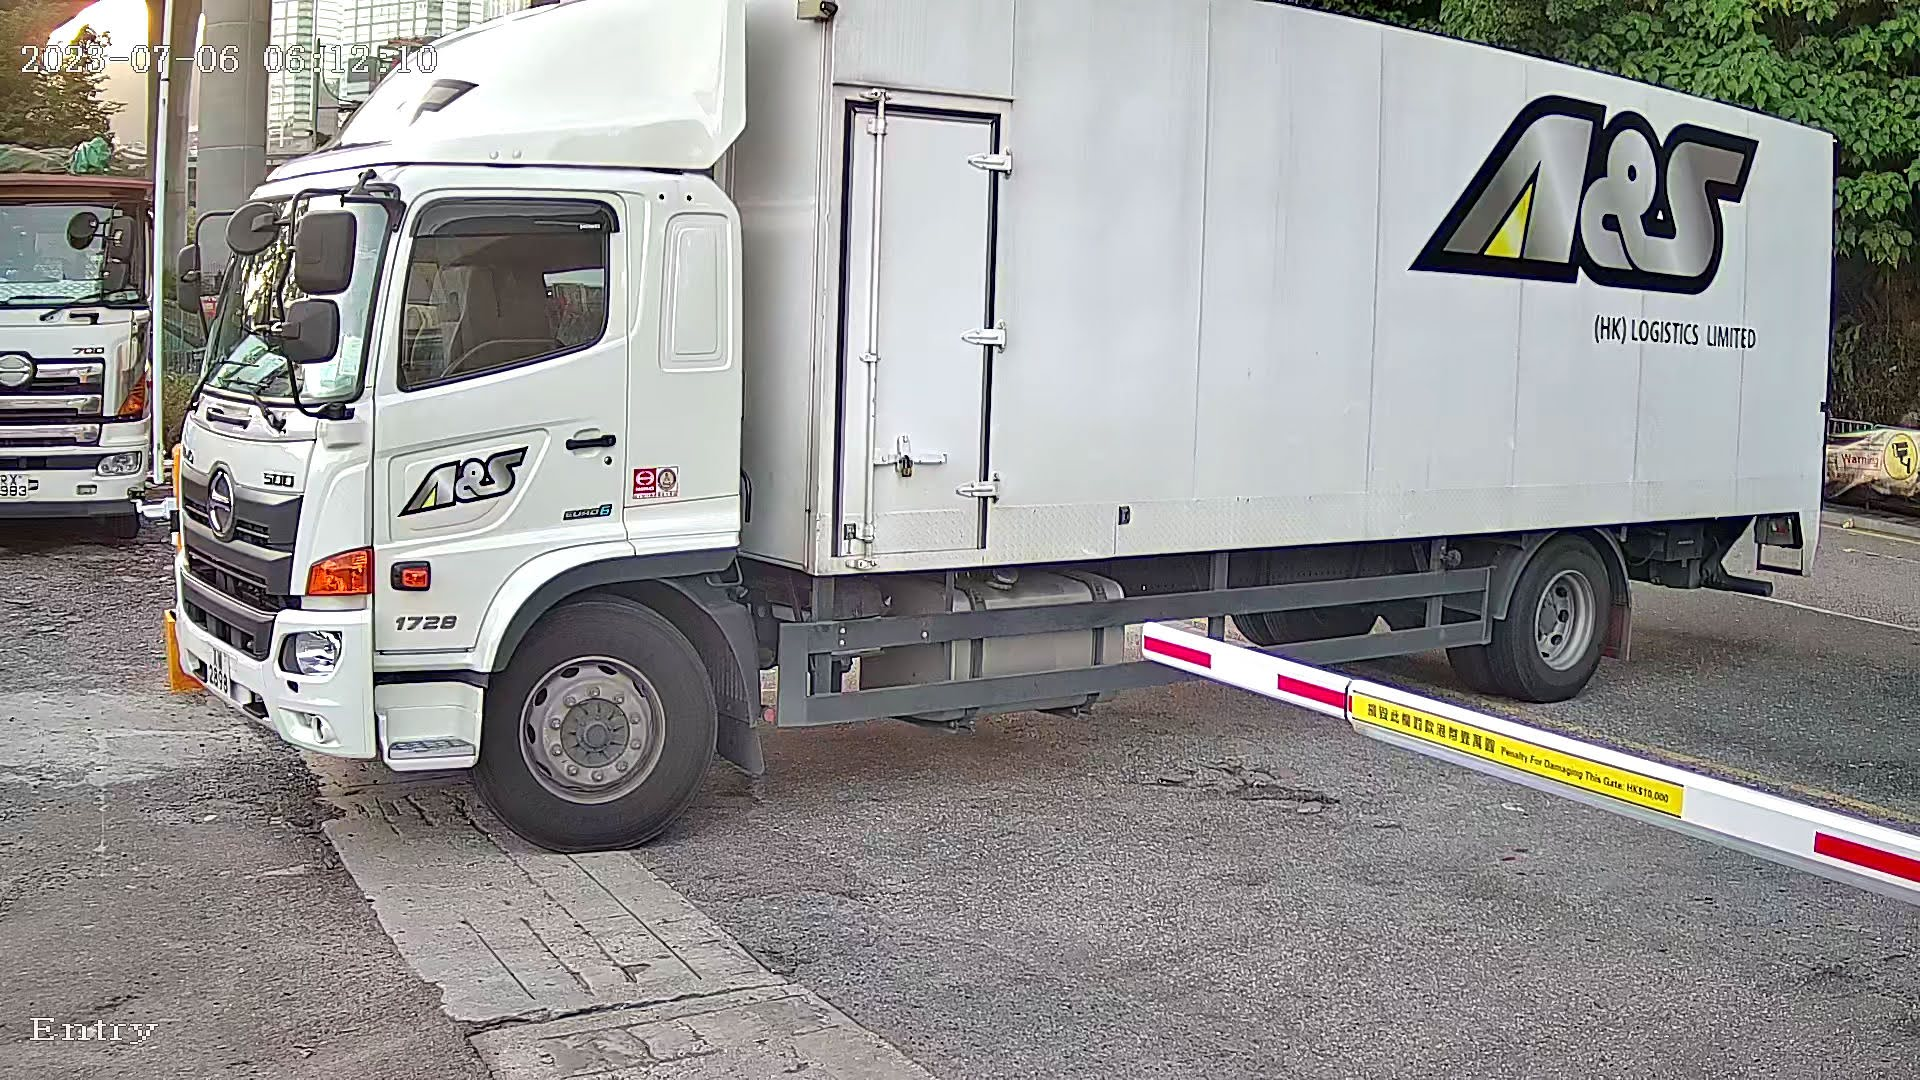truck: (135, 1, 1869, 866)
